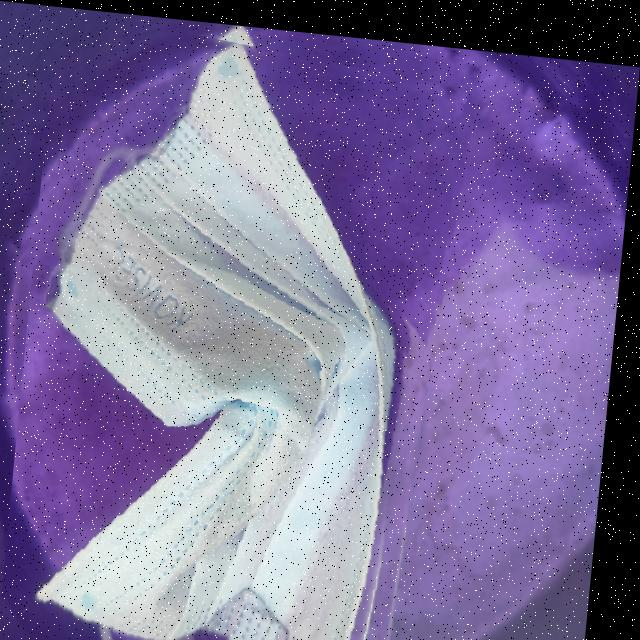mask: (10, 5, 472, 640)
